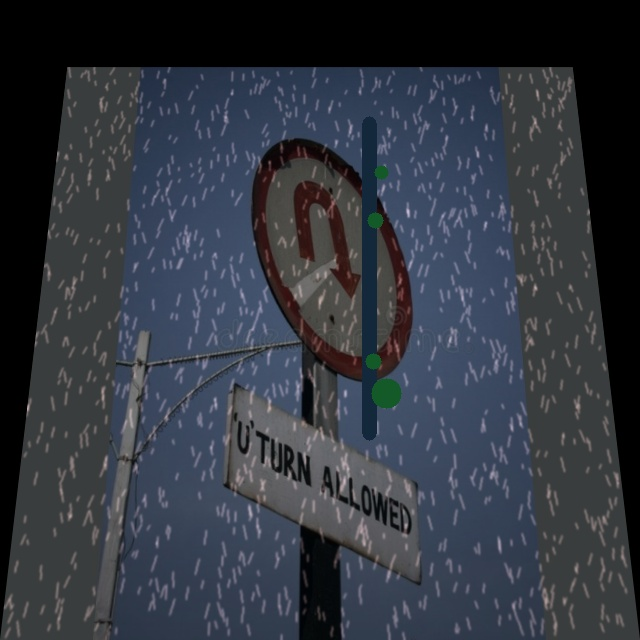U_Turn_Ahead: (249, 127, 435, 383)
